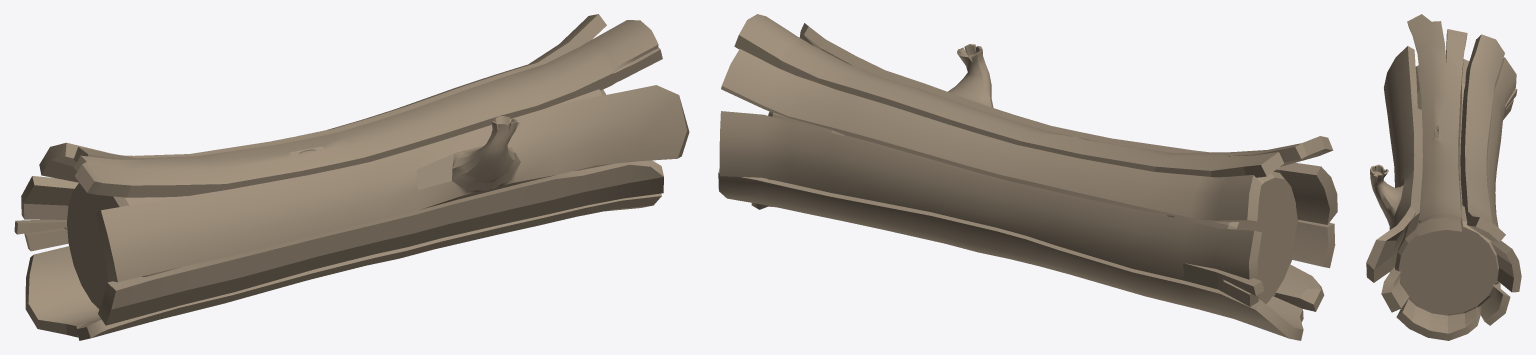
The model's file is log.fbx.
3 renders of one model, left to right at view 1: azimuth 30°, elevation 25°; view 2: azimuth 150°, elevation 25°; view 3: azimuth 270°, elevation 25°, orthographic. The views are drawn at different scales.
Parts seen in each view (by area): view 1: pCylinder4, pCylinder5; view 2: pCylinder4, pCylinder5; view 3: pCylinder4, pCylinder5.
Part boxes in pixels (left/top/right/bottom): pCylinder4: left=14, top=14, right=689, bottom=340; pCylinder5: left=67, top=89, right=611, bottom=309; pCylinder4: left=718, top=14, right=1337, bottom=340; pCylinder5: left=768, top=76, right=1298, bottom=303; pCylinder4: left=1366, top=14, right=1521, bottom=340; pCylinder5: left=1395, top=59, right=1498, bottom=315.
Bounding box in the file's own units: 13.85 × 4.2 × 4.45.
